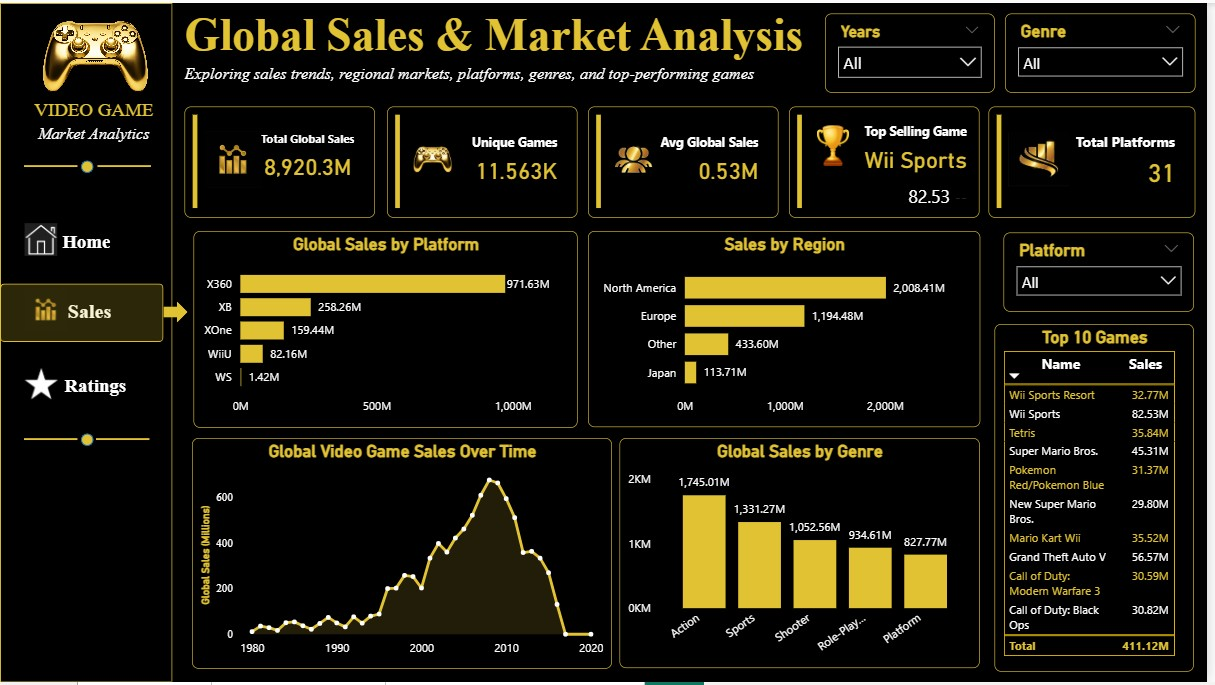

What the dashboard file says about the page in this screenshot:
{"tool":"powerbi","page":{"name":"Sales Analysis","canvas":[1280,720],"ordinal":1},"visuals":[{"type":"shape","box":[0,0,182.9,720.5],"z":0},{"type":"shape","box":[173.4,316.5,25.4,22.3],"z":1000},{"type":"shape","title":"Global Sales & Market Analysis","box":[195.6,6.4,733.3,109.8],"z":2000},{"type":"image","box":[19.1,0,163.8,114.5],"z":3000},{"type":"textbox","title":"VIDEO GAME","box":[15.9,101.8,167,74.8],"z":4000},{"type":"shape","box":[25.5,160.7,56.7,24.6],"z":5000},{"type":"shape","box":[85.9,166.3,13.2,13.2],"z":6000},{"type":"shape","box":[102.9,160.7,56.7,24.6],"z":7000},{"type":"actionButton","box":[12.7,227.5,157.5,52.5],"z":8000},{"type":"actionButton","box":[12.7,295.9,157.5,63.6],"z":9000},{"type":"shape","box":[0,297.4,173.4,62],"z":10000},{"type":"actionButton","box":[22.3,380.2,157.5,52.5],"z":11000},{"type":"shape","box":[25,450.1,56.7,24.6],"z":12000},{"type":"shape","box":[85.5,455.8,13.2,13.2],"z":13000},{"type":"shape","box":[102.5,450.1,56.7,24.6],"z":14000},{"type":"cardVisual","fields":{"Data":["Sum(cleaned_data.Global_Sales)"]},"box":[195.6,109.8,202,117.7],"z":15000},{"type":"cardVisual","fields":{"Data":["Count(cleaned_data.Platform)"]},"box":[1048.2,109.8,219.5,117.7],"z":16000},{"type":"cardVisual","fields":{"Data":["Count(cleaned_data.Name)"]},"box":[410.4,109.8,202,117.7],"z":17000},{"type":"cardVisual","fields":{"Data":["Avg(cleaned_data.Global_Sales)"]},"box":[623.5,109.8,202,117.7],"z":18000},{"type":"cardVisual","fields":{"Data":["cleaned_data.Top Selling Game"]},"box":[836.7,109.8,202,117.7],"z":19000},{"type":"slicer","fields":{"Values":["cleaned_data.Genre"]},"box":[1065.7,11.1,202,84.3],"z":20000},{"type":"slicer","fields":{"Values":["cleaned_data.Year_of_Release"]},"box":[874.8,11.1,179.7,84.3],"z":21000},{"type":"slicer","fields":{"Values":["cleaned_data.Platform"]},"box":[1064.1,243.4,202,84.3],"z":22000},{"type":"lineChart","title":"Global Video Game Sales Over Time","fields":{"Category":["cleaned_data.Year_of_Release"],"Y":["Sum(cleaned_data.Global_Sales)"]},"box":[203.6,461.3,445.4,245],"z":23000},{"type":"clusteredBarChart","title":"Global Sales by Platform","fields":{"Category":["cleaned_data.Platform"],"Y":["Sum(cleaned_data.Global_Sales)"]},"box":[205.2,241.8,407.2,208.4],"z":24000},{"type":"clusteredBarChart","title":"Sales by Region","fields":{"Category":["Regional Sales.Region"],"Y":["Sum(Regional Sales.Sales)"]},"box":[623.6,241.9,415.8,207.9],"z":25000},{"type":"tableEx","title":"Top 10 Games","fields":{"Values":["cleaned_data.Name","Sum(cleaned_data.Global_Sales)"]},"box":[1054.5,340.2,211.7,368.5],"z":26000},{"type":"clusteredColumnChart","title":"Global Sales by Genre","fields":{"Y":["Sum(Regional Sales.Sales)"],"Category":["cleaned_data.Genre"]},"box":[657.6,461.1,381.7,243.8],"z":27000}]}

Visuals, with their boxes in screenshot pixels (x1, y1, x2, y2), scaled from the page's 1280x720 canvas onto the 1215x685 screenshot:
shape: detection(0, 0, 174, 684)
shape: detection(165, 301, 189, 322)
"Global Sales & Market Analysis" shape: detection(186, 6, 882, 111)
image: detection(18, 0, 174, 109)
"VIDEO GAME" textbox: detection(15, 97, 174, 168)
shape: detection(24, 153, 78, 176)
shape: detection(82, 158, 94, 171)
shape: detection(98, 153, 151, 176)
actionButton: detection(12, 216, 162, 266)
actionButton: detection(12, 282, 162, 342)
shape: detection(0, 283, 165, 342)
actionButton: detection(21, 362, 171, 412)
shape: detection(24, 428, 78, 452)
shape: detection(81, 434, 94, 446)
shape: detection(97, 428, 151, 452)
cardVisual - Sum(cleaned_data.Global_Sales): detection(186, 104, 377, 216)
cardVisual - Count(cleaned_data.Platform): detection(995, 104, 1203, 216)
cardVisual - Count(cleaned_data.Name): detection(390, 104, 581, 216)
cardVisual - Avg(cleaned_data.Global_Sales): detection(592, 104, 784, 216)
cardVisual - cleaned_data.Top Selling Game: detection(794, 104, 986, 216)
slicer - cleaned_data.Genre: detection(1012, 11, 1203, 91)
slicer - cleaned_data.Year_of_Release: detection(830, 11, 1001, 91)
slicer - cleaned_data.Platform: detection(1010, 232, 1202, 312)
"Global Video Game Sales Over Time" lineChart: detection(193, 439, 616, 672)
"Global Sales by Platform" clusteredBarChart: detection(195, 230, 581, 428)
"Sales by Region" clusteredBarChart: detection(592, 230, 987, 428)
"Top 10 Games" tableEx: detection(1001, 324, 1202, 674)
"Global Sales by Genre" clusteredColumnChart: detection(624, 439, 987, 671)
